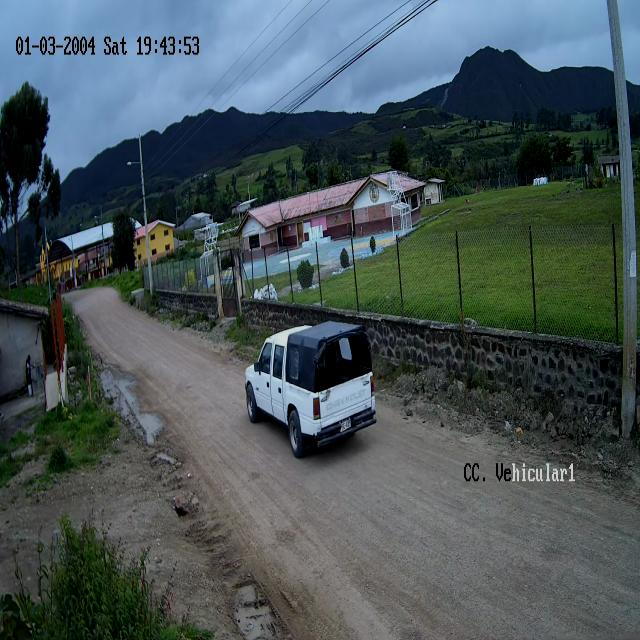CMT: (245, 321, 377, 460)
